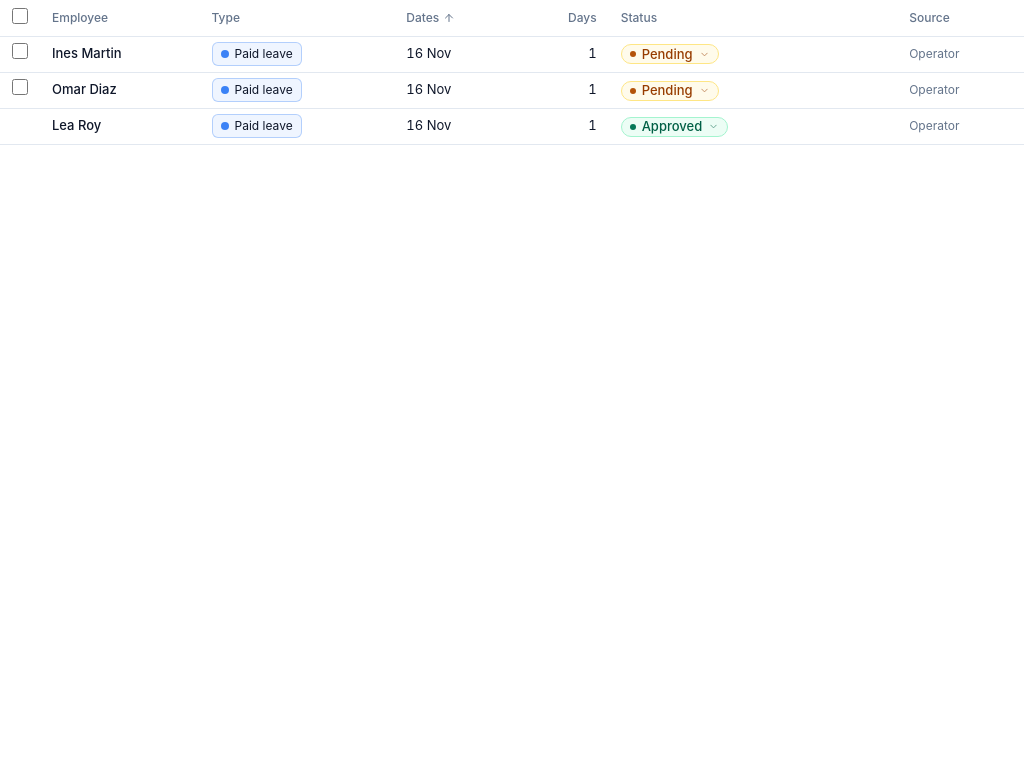
it: bulk approve › sends the selected ids and reports each failure in its own toast
Click the checkbox named "Select all pending leaves" at (20, 16), box [12,8,28,24]
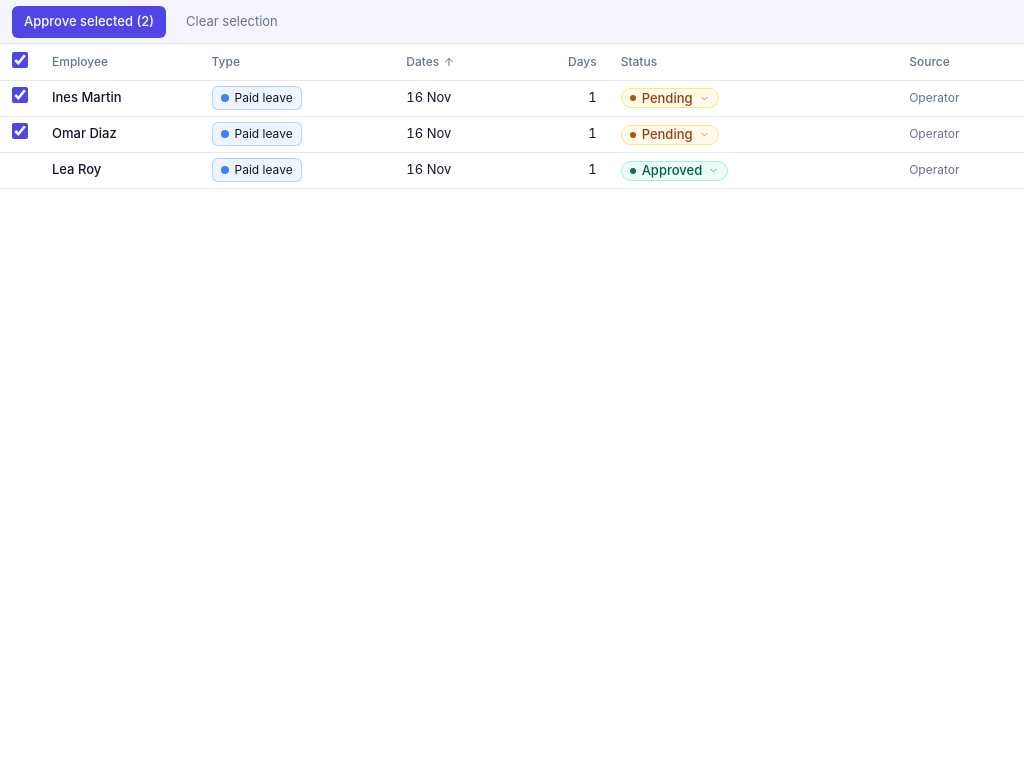
Click the button "Approve selected (2)" at (89, 22), box [12,6,166,38]
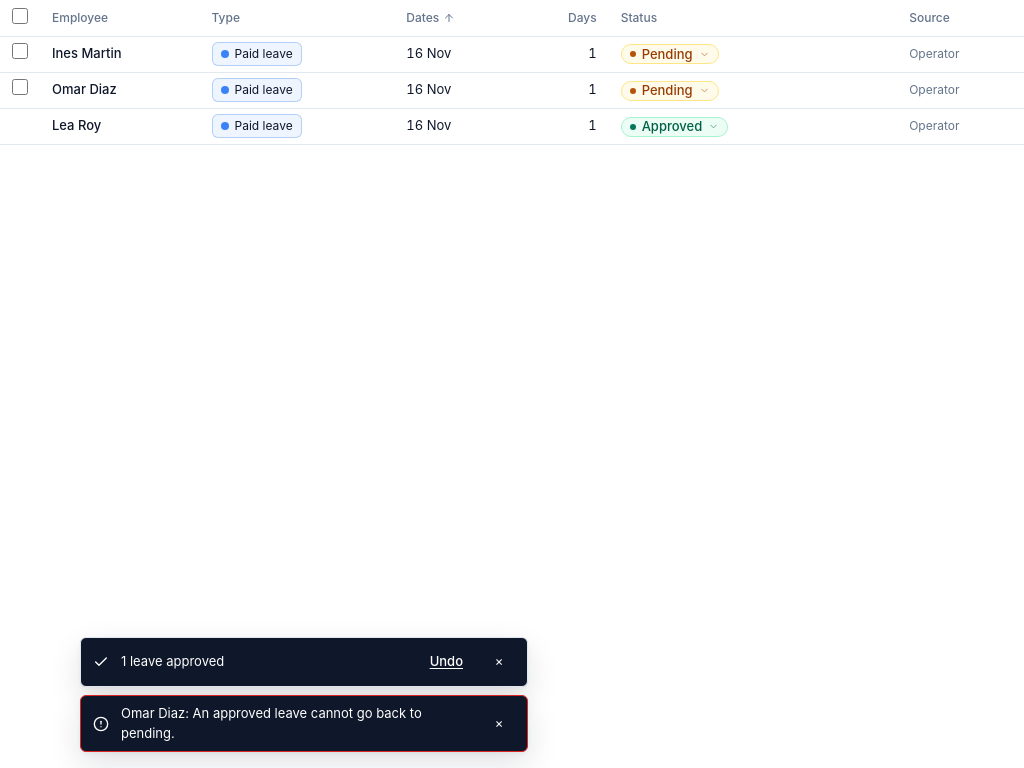
Now the text "1 leave approved" is shown, box [121,653,224,669]
Now the text "Omar Diaz: An approved leave cannot go back to pending." is shown, box [121,704,471,743]
